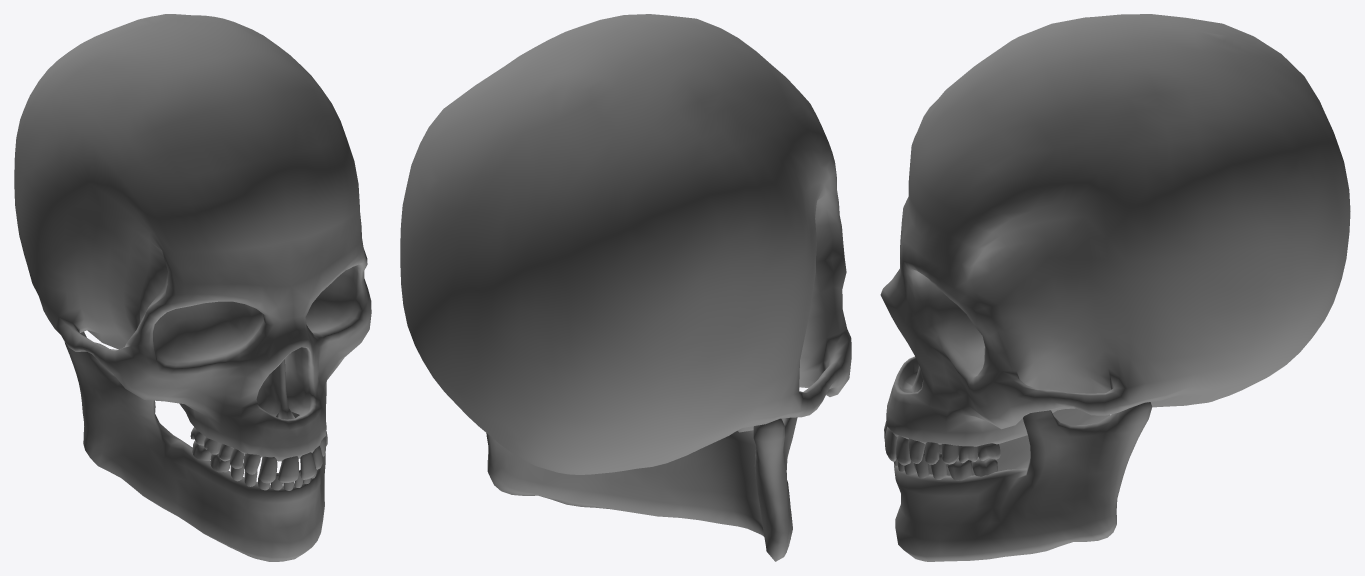
The model's file is human_skull.glb.
3 views of the same model, side by side, from view 1: azimuth 30°, elevation 25°; view 2: azimuth 150°, elevation 25°; view 3: azimuth 270°, elevation 25° (orthographic). The views are drawn at different scales.
Parts seen in each view (by area): view 1: node_id3; view 2: node_id3; view 3: node_id3.
Boxes of the visible parts, x1=… form: node_id3: x1=14, y1=14, x2=371, y2=561; node_id3: x1=400, y1=14, x2=851, y2=561; node_id3: x1=880, y1=14, x2=1350, y2=561.
Size of the model in its own units: 0.345 by 0.512 by 0.4203.
1 material, 1 textured.
